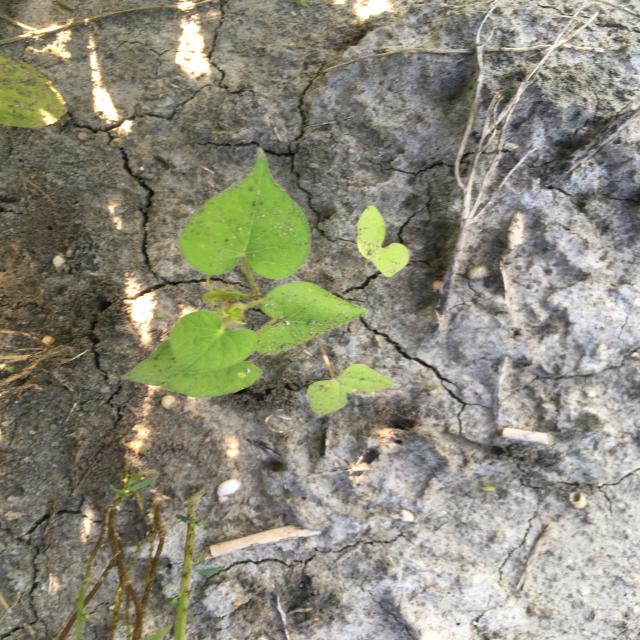MorningGlory: (118, 144, 414, 418)
